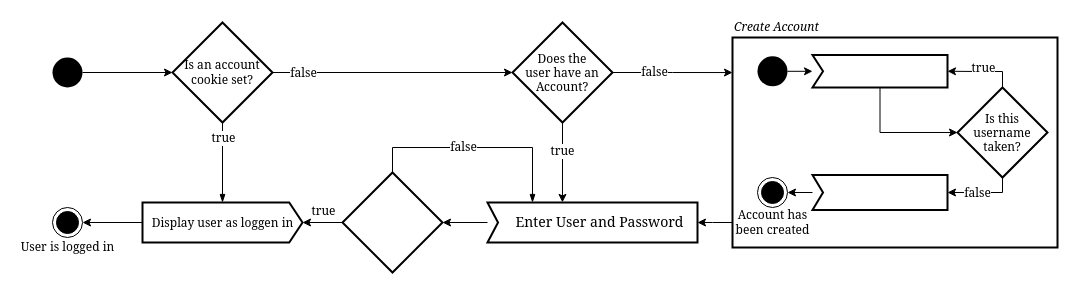
Image size: 1075x290. Some labels were removed from this diagram. Here are the shapes that lost their labels. From the top down, the centre of each, then its label:
At (x=879, y=71): "Enter Username".
At (x=879, y=192): "Enter password".
At (x=392, y=222): "Are the credentials correct?".
